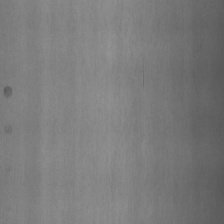oil_spot: (2, 78, 14, 101), (1, 120, 15, 137)
